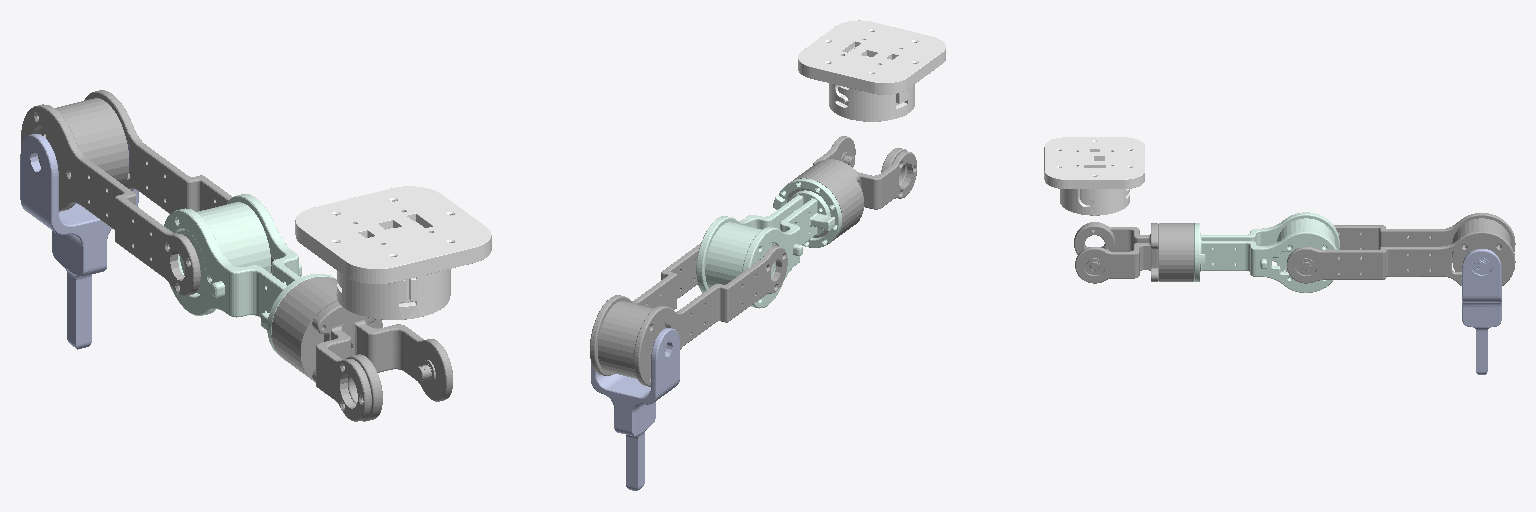
URDF robot description (tandem_mani):
<?xml version="1.0" encoding="utf-8"?>
<!-- This URDF was automatically created by SolidWorks to URDF Exporter! Originally created by [author] ([email redacted]) 
     Commit Version: 1.6.0-4-g7f85cfe  Build Version: 1.6.7995.38578
     For more information, please see http://wiki.ros.org/sw_urdf_exporter -->
<robot
  name="tandem_mani">
<link name="world"/>

 <joint
    name="world_joint"
    type="fixed">
    <origin
      xyz="0 0 1.5"
      rpy="0 0 0" />
    <parent
      link="world" />
    <child
      link="base_link" />
  </joint>

  <link
    name="base_link">
    <inertial>
      <origin
        xyz="0.000135595388122672 5.91224063131307E-05 -0.018365850422852"
        rpy="0 0 0" />
      <mass
        value="0.285969725659351" />
      <inertia
        ixx="0.000115724313213013"
        ixy="4.70432516652343E-08"
        ixz="-7.88346080559358E-09"
        iyy="0.000115478624283856"
        iyz="3.79749168472869E-08"
        izz="0.00018164786145776" />
    </inertial>
    <visual>
      <origin
        xyz="0 0 0"
        rpy="0 0 0" />
      <geometry>
        <mesh
          filename="package://tandem_mani/meshes/base_link.STL" />
      </geometry>
      <material
        name="">
        <color
          rgba="1 1 1 1" />
      </material>
    </visual>
    <collision>
      <origin
        xyz="0 0 0"
        rpy="0 0 0" />
      <geometry>
        <mesh
          filename="package://tandem_mani/meshes/base_link.STL" />
      </geometry>
    </collision>
  </link>
  <link
    name="link1">
    <inertial>
      <origin
        xyz="-1.45218249936463E-05 -4.78850872871073E-05 0.0041298276795592"
        rpy="0 0 0" />
      <mass
        value="0.244953972348195" />
      <inertia
        ixx="9.36608438261593E-05"
        ixy="6.38709285032214E-08"
        ixz="9.09638924219459E-08"
        iyy="0.000111053375180763"
        iyz="-2.2121372916245E-06"
        izz="8.44876478832793E-05" />
    </inertial>
    <visual>
      <origin
        xyz="0 0 0"
        rpy="0 0 0" />
      <geometry>
        <mesh
          filename="package://tandem_mani/meshes/link1.STL" />
      </geometry>
      <material
        name="">
        <color
          rgba="0.905882352941176 1 0.964705882352941 1" />
      </material>
    </visual>
    <collision>
      <origin
        xyz="0 0 0"
        rpy="0 0 0" />
      <geometry>
        <mesh
          filename="package://tandem_mani/meshes/link1.STL" />
      </geometry>
    </collision>
  </link>
  <joint
    name="joint1"
    type="fixed">
    <origin
      xyz="0.00015793 0 -0.093"
      rpy="0 0 1.5708" />
    <parent
      link="base_link" />
    <child
      link="link1" />
    <axis
      xyz="0 0 1" />
  </joint>
  <link
    name="link2">
    <inertial>
      <origin
        xyz="-2.14601662783948E-07 -0.0655891331164192 -0.000125674296825215"
        rpy="0 0 0" />
      <mass
        value="0.23012452247972" />
      <inertia
        ixx="7.49193326290686E-05"
        ixy="-3.29441184856602E-13"
        ixz="-1.5614454365387E-12"
        iyy="8.19197938094067E-05"
        iyz="-5.78389609780292E-07"
        izz="6.85328157056288E-05" />
    </inertial>
    <visual>
      <origin
        xyz="0 0 0"
        rpy="0 0 0" />
      <geometry>
        <mesh
          filename="package://tandem_mani/meshes/link2.STL" />
      </geometry>
      <material
        name="">
        <color
          rgba="0.752941176470588 0.752941176470588 0.752941176470588 1" />
      </material>
    </visual>
    <collision>
      <origin
        xyz="0 0 0"
        rpy="0 0 0" />
      <geometry>
        <mesh
          filename="package://tandem_mani/meshes/link2.STL" />
      </geometry>
    </collision>
  </link>
  <joint
    name="joint2"
    type="fixed">
    <origin
      xyz="0 0 0"
      rpy="1.5708 -1.5708 0" />
    <parent
      link="link1" />
    <child
      link="link2" />
    <axis
      xyz="0 0 1" />
  </joint>
  <link
    name="link3">
    <inertial>
      <origin
        xyz="5.06666183667029E-06 3.62276375425394E-05 -0.00924645090381562"
        rpy="0 0 0" />
      <mass
        value="0.249723164589436" />
      <inertia
        ixx="0.000142401582341112"
        ixy="-2.70844736564157E-08"
        ixz="-5.97667932770958E-09"
        iyy="0.000154588530939837"
        iyz="-4.141908797244E-06"
        izz="7.4727297306364E-05" />
    </inertial>
    <visual>
      <origin
        xyz="0 0 0"
        rpy="0 0 0" />
      <geometry>
        <mesh
          filename="package://tandem_mani/meshes/link3.STL" />
      </geometry>
      <material
        name="">
        <color
          rgba="0.905882352941176 1 0.964705882352941 1" />
      </material>
    </visual>
    <collision>
      <origin
        xyz="0 0 0"
        rpy="0 0 0" />
      <geometry>
        <mesh
          filename="package://tandem_mani/meshes/link3.STL" />
      </geometry>
    </collision>
  </link>
  <joint
    name="joint3"
    type="fixed">
    <origin
      xyz="0 -0.189 0"
      rpy="1.5708 0 0" />
    <parent
      link="link2" />
    <child
      link="link3" />
    <axis
      xyz="0 0 1" />
  </joint>
  <link
    name="link4">
    <inertial>
      <origin
        xyz="0.140083180519364 7.70217223333702E-16 0.000270635189935343"
        rpy="0 0 0" />
      <mass
        value="0.254533013461218" />
      <inertia
        ixx="5.97966602470778E-05"
        ixy="5.83555031971081E-20"
        ixz="6.60761727489758E-07"
        iyy="0.000250961774728623"
        iyz="-6.12258360066086E-20"
        izz="0.000275230115180078" />
    </inertial>
    <visual>
      <origin
        xyz="0 0 0"
        rpy="0 0 0" />
      <geometry>
        <mesh
          filename="package://tandem_mani/meshes/link4.STL" />
      </geometry>
      <material
        name="">
        <color
          rgba="0.752941176470588 0.752941176470588 0.752941176470588 1" />
      </material>
    </visual>
    <collision>
      <origin
        xyz="0 0 0"
        rpy="0 0 0" />
      <geometry>
        <mesh
          filename="package://tandem_mani/meshes/link4.STL" />
      </geometry>
    </collision>
  </link>
  <joint
    name="joint4"
    type="fixed">
    <origin
      xyz="0 0 0"
      rpy="-1.5708 -1.5708 0" />
    <parent
      link="link3" />
    <child
      link="link4" />
    <axis
      xyz="0 0 1" />
  </joint>
  <link
    name="link5">
    <inertial>
      <origin
        xyz="-1.65614616465248E-09 -0.0395485542653819 0.000379781564919621"
        rpy="0 0 0" />
      <mass
        value="0.0494024336689589" />
      <inertia
        ixx="4.37835015871225E-05"
        ixy="-1.71636835636761E-12"
        ixz="1.57326385975137E-13"
        iyy="1.65286055806533E-05"
        iyz="5.15290314507009E-07"
        izz="3.5933623623826E-05" />
    </inertial>
    <visual>
      <origin
        xyz="0 0 0"
        rpy="0 0 0" />
      <geometry>
        <mesh
          filename="package://tandem_mani/meshes/link5.STL" />
      </geometry>
      <material
        name="">
        <color
          rgba="0.792156862745098 0.819607843137255 0.933333333333333 1" />
      </material>
    </visual>
    <collision>
      <origin
        xyz="0 0 0"
        rpy="0 0 0" />
      <geometry>
        <mesh
          filename="package://tandem_mani/meshes/link5.STL" />
      </geometry>
    </collision>
  </link>
  <joint
    name="joint5"
    type="fixed">
    <origin
      xyz="0.157 0 0"
      rpy="0 0 0" />
    <parent
      link="link4" />
    <child
      link="link5" />
    <axis
      xyz="0 0 1" />
  </joint>
  <link
    name="end_point">
    <inertial>
      <origin
        xyz="-1.38777878078145E-17 0 0.00312400364362017"
        rpy="0 0 0" />
      <mass
        value="0.000333382798127531" />
      <inertia
        ixx="2.71618901708545E-09"
        ixy="-1.75775880167518E-24"
        ixz="-5.93774634985794E-24"
        iyy="2.71618901708544E-09"
        iyz="-4.39842935160137E-24"
        izz="4.44638380952943E-09" />
    </inertial>
    <visual>
      <origin
        xyz="0 0 0"
        rpy="0 0 0" />
      <geometry>
        <mesh
          filename="package://tandem_mani/meshes/end_point.STL" />
      </geometry>
      <material
        name="">
        <color
          rgba="0.792156862745098 0.819607843137255 0.933333333333333 1" />
      </material>
    </visual>
    <collision>
      <origin
        xyz="0 0 0"
        rpy="0 0 0" />
      <geometry>
        <mesh
          filename="package://tandem_mani/meshes/end_point.STL" />
      </geometry>
    </collision>
  </link>
  <joint
    name="end_joint"
    type="revolute">
    <origin
      xyz="0 -0.12 -0.0005"
      rpy="-1.5708 -1.5708 0" />
    <parent
      link="link5" />
    <child
      link="end_point" />
    <limit effort="30" velocity="1.0" lower="-0.001" upper="0.001" />
    <axis
      xyz="0 0 1" />
  </joint>
</robot>

--- Facts derived from the render (not from the file) ---
Views: 3 orthographic renders of the robot side by side, from view 1: azimuth 30°, elevation 25°; view 2: azimuth 150°, elevation 25°; view 3: azimuth 270°, elevation 25°.
Model tandem_mani with 8 links and 7 joints (1 revolute, 6 fixed), rooted at world, posed every joint at zero.
Visible links, largest first — view 1: base_link, link4, link2, link3, link5; view 2: link4, base_link, link3, link5, link2; view 3: link4, base_link, link3, link2, link5.
Link boxes in pixels (box(x1,y1,x2,y2)): base_link: box(295, 186, 491, 319); link4: box(21, 90, 273, 295); link2: box(272, 277, 452, 421); link3: box(164, 194, 336, 357); link5: box(20, 134, 138, 344); link4: box(590, 243, 787, 386); base_link: box(798, 20, 945, 121); link3: box(696, 178, 841, 308); link5: box(591, 328, 679, 487); link2: box(787, 136, 916, 240); link4: box(1287, 213, 1515, 285); base_link: box(1044, 137, 1144, 215); link3: box(1194, 212, 1339, 292); link2: box(1074, 222, 1193, 283); link5: box(1462, 249, 1501, 371).
Bounding box of the posed robot: 0.09 × 0.4209 × 0.213 m (x, y, z).
Meshes: 7 distinct files referenced, 6 mesh visuals loaded (6 binary STL); not drawn: 1 (reference not matched to a file when rendering).